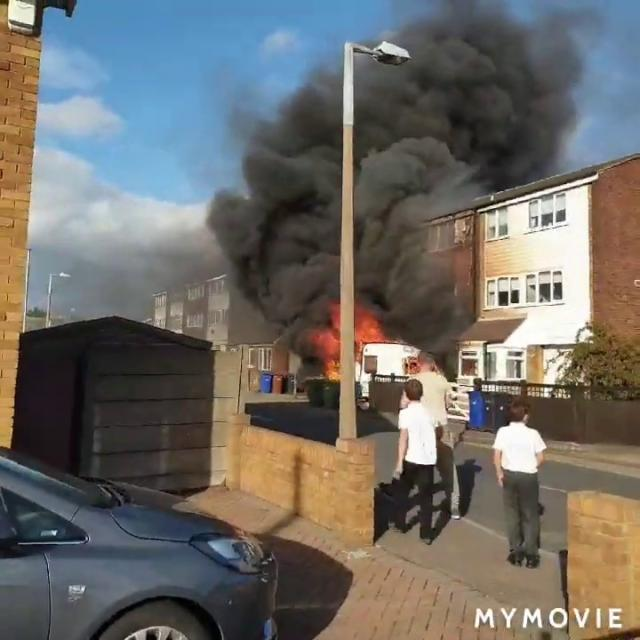Fire: (320, 308, 388, 379)
Smoke: (197, 0, 591, 345)
